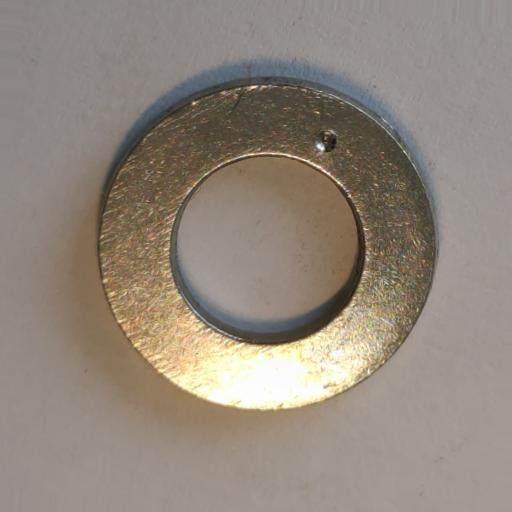circular_cavity: (313, 129, 337, 154)
